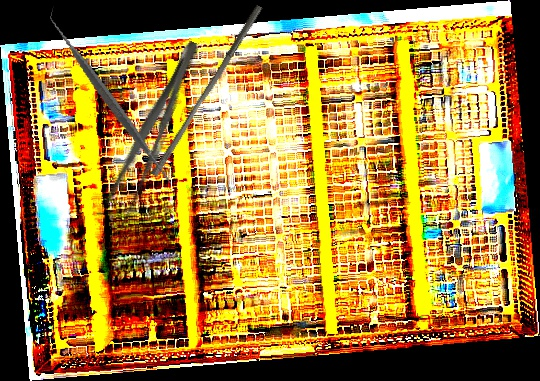Dressing Forceps: (97, 35, 209, 232)
Pusher: (150, 0, 263, 181)
Spatula Surgical: (15, 6, 206, 194)
